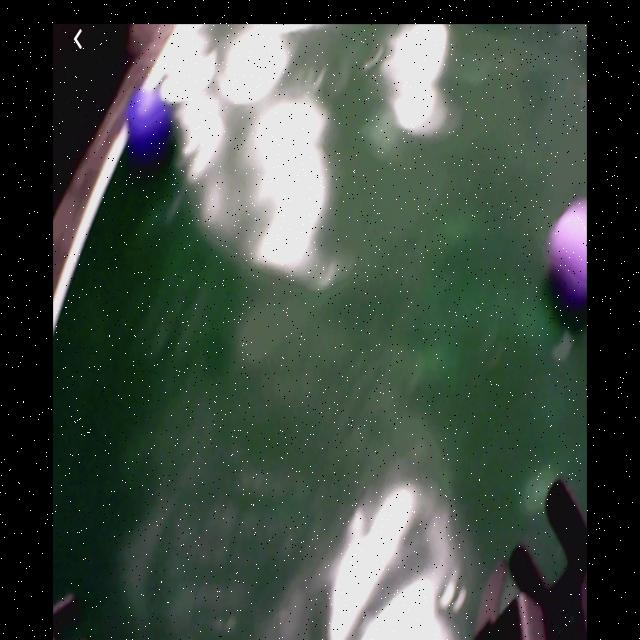ball: (554, 203, 589, 297), (125, 85, 170, 153)
